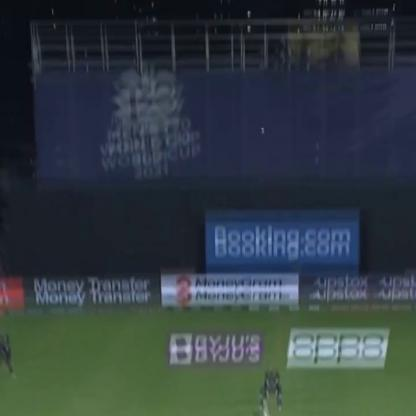ball: (258, 128, 264, 136), (259, 125, 267, 129)
